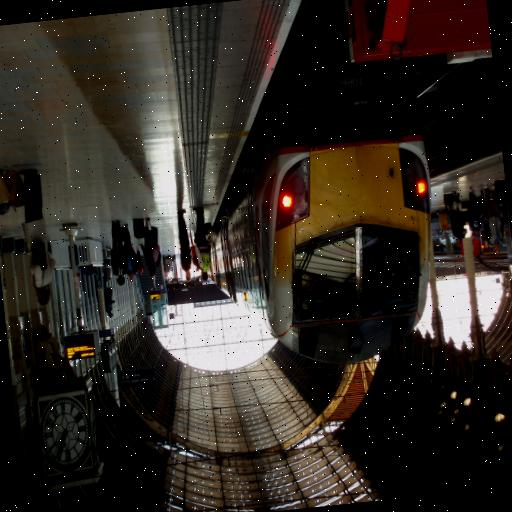platform_edge: (163, 0, 324, 199)
